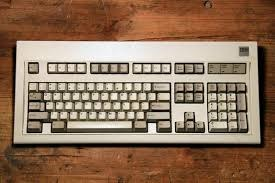keyboard: (16, 47, 261, 150)
